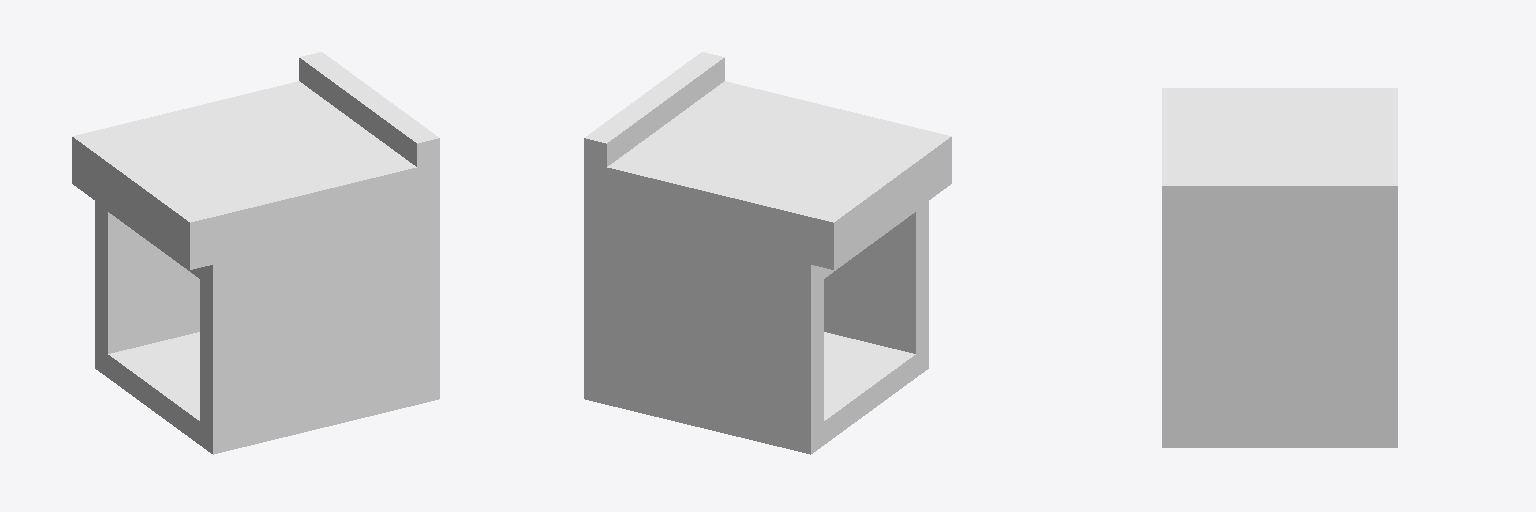
Rendered from kitchen_stand.obj.
3 views of the same model, side by side, from view 1: azimuth 30°, elevation 25°; view 2: azimuth 150°, elevation 25°; view 3: azimuth 270°, elevation 25° (orthographic).
Parts seen in each view (by area): view 1: kitchen_stand; view 2: kitchen_stand; view 3: kitchen_stand.
Part boxes in pixels (x1,y1,x2,y2): kitchen_stand: (72,52,439,454); kitchen_stand: (584,52,951,454); kitchen_stand: (1162,88,1397,447).
Bounding box in the file's own units: 11 × 11 × 9.